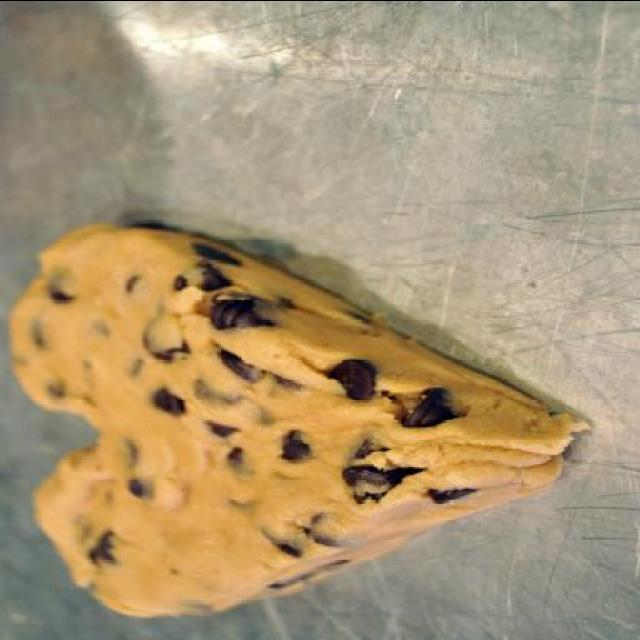Cookie: (2, 223, 590, 620)
